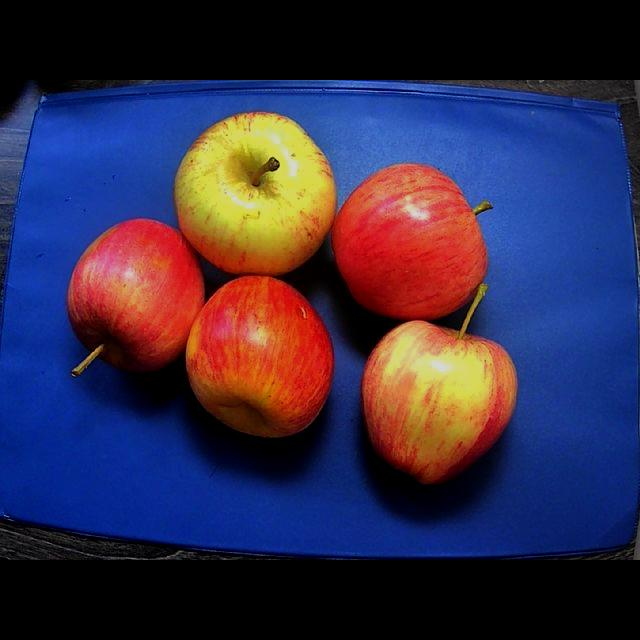manzana: (362, 284, 516, 484), (174, 111, 336, 275), (332, 163, 493, 319), (187, 276, 334, 436), (68, 218, 204, 375)
